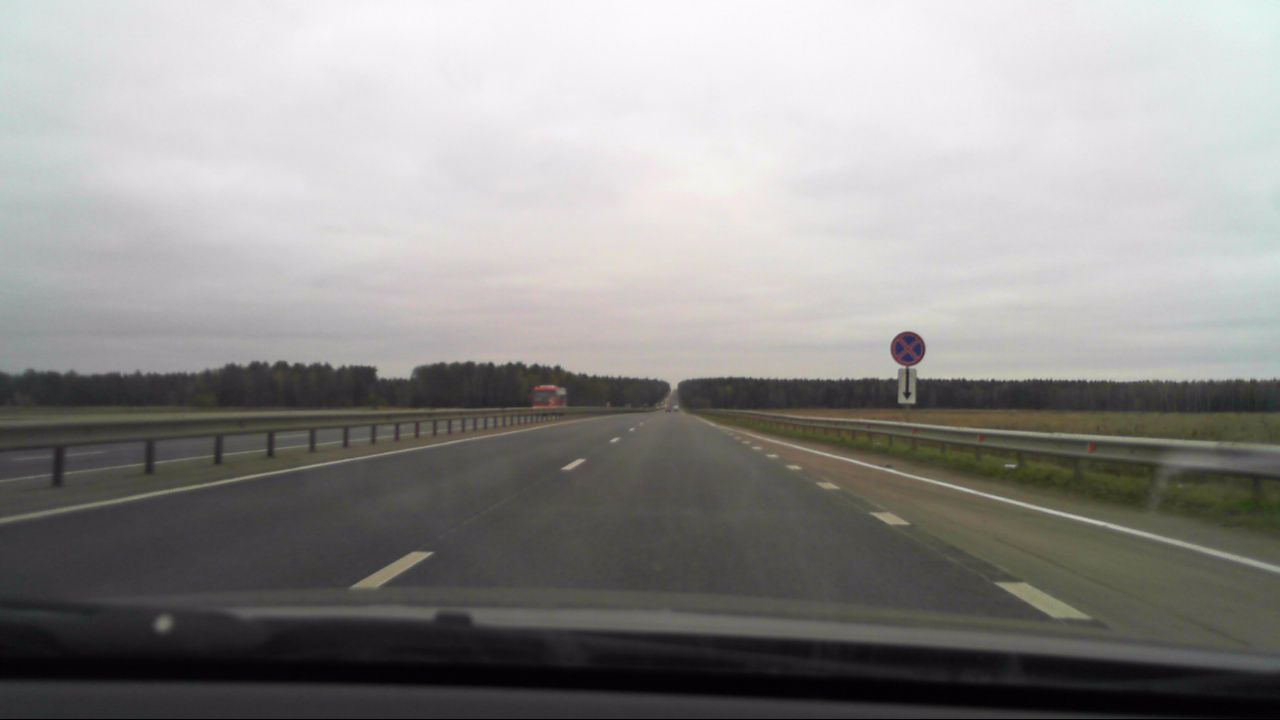No Parking: (890, 332, 927, 368)
